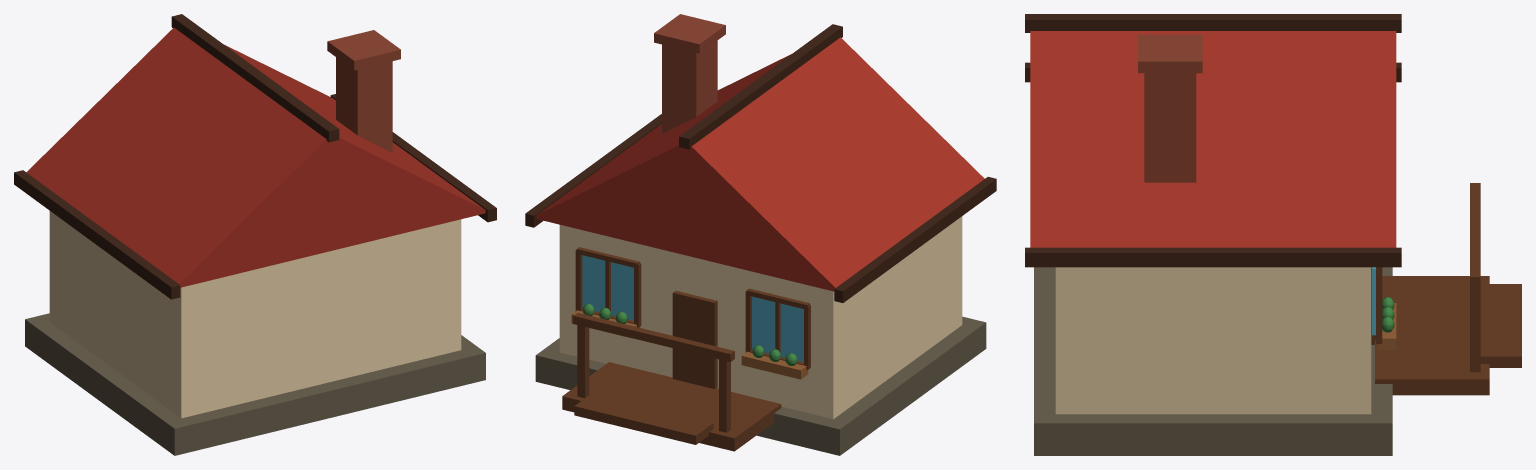
File: home_cottage.obj
3 views of the same model, side by side, from view 1: azimuth 30°, elevation 25°; view 2: azimuth 150°, elevation 25°; view 3: azimuth 270°, elevation 25° (orthographic). The views are drawn at different scales.
Parts seen in each view (by area): view 1: CottageRoof, CottageWalls, CottageFoundation, RoofTrim, Chimney; view 2: CottageRoof, CottageWalls, Porch, CottageFoundation, RoofTrim, Chimney, CottageWindows, CottageDoor, WindowFrames, FlowerBoxes, FlowerPlants; view 3: CottageRoof, CottageWalls, CottageFoundation, Porch, RoofTrim, Chimney, WindowFrames.
Boxes of the visible parts, box(x1,y1,x2,y2) form: CottageRoof: box(26, 28, 485, 287); CottageWalls: box(49, 211, 461, 418); CottageFoundation: box(25, 313, 485, 455); RoofTrim: box(14, 14, 496, 299); Chimney: box(327, 30, 400, 152); CottageRoof: box(536, 37, 984, 291); CottageWalls: box(559, 216, 962, 419); Porch: box(562, 313, 781, 451); CottageFoundation: box(535, 316, 986, 455); RoofTrim: box(525, 24, 996, 302); Chimney: box(654, 14, 725, 133); CottageWindows: box(582, 255, 803, 362); CottageDoor: box(672, 291, 717, 388); WindowFrames: box(575, 247, 810, 370); FlowerBoxes: box(571, 310, 808, 379); FlowerPlants: box(583, 303, 796, 365); CottageRoof: box(1030, 31, 1396, 247); CottageWalls: box(1055, 267, 1371, 414); CottageFoundation: box(1034, 267, 1392, 455); Porch: box(1375, 183, 1521, 395); RoofTrim: box(1025, 14, 1401, 267); Chimney: box(1138, 34, 1202, 182); WindowFrames: box(1376, 267, 1382, 343).
Bounding box in the file's own units: 12.55 × 11.38 × 13.85.
